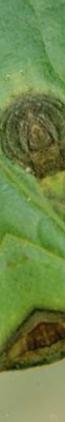Tomato leaf late blight: (0, 2, 65, 408)
